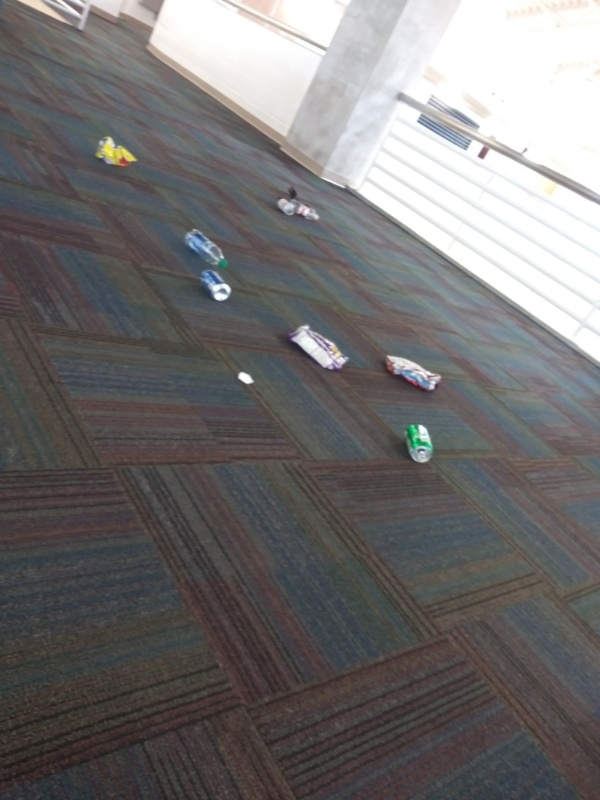bag: (283, 320, 353, 378), (380, 347, 446, 395), (92, 130, 138, 169)
bottle: (177, 225, 238, 273), (298, 201, 324, 225)
can: (398, 419, 435, 468), (195, 265, 234, 306), (272, 195, 298, 222)
